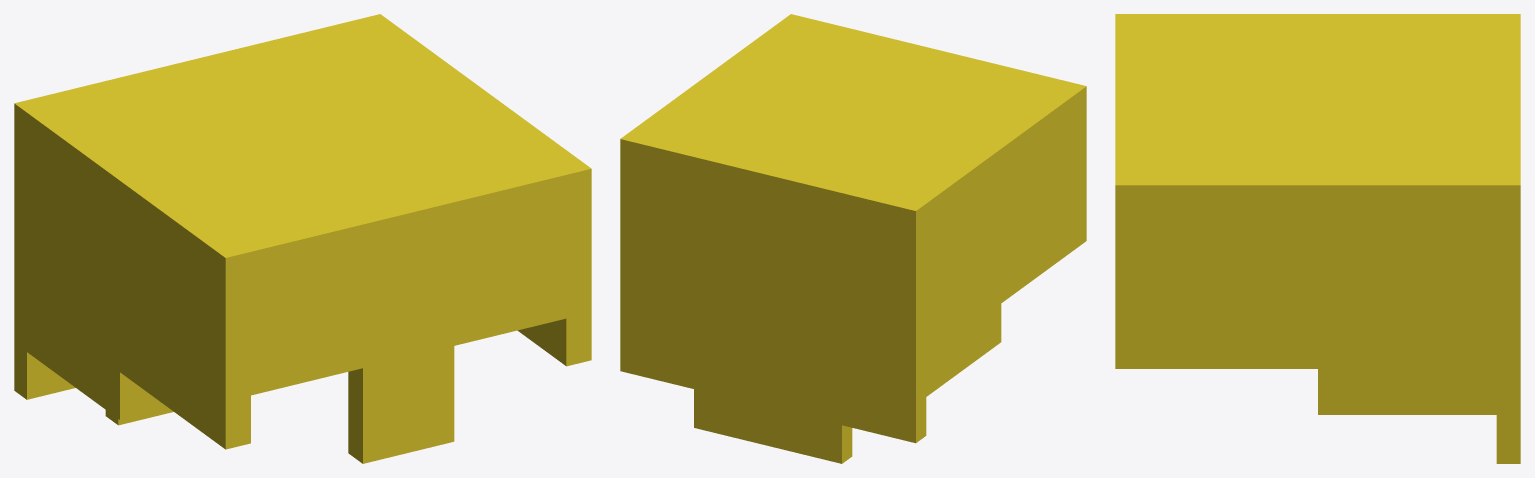
File: Helmet.fbx
3 renders of one model, left to right at view 1: azimuth 30°, elevation 25°; view 2: azimuth 150°, elevation 25°; view 3: azimuth 270°, elevation 25°, orthographic. The views are drawn at different scales.
Parts seen in each view (by area): view 1: Helmet:Gold; view 2: Helmet:Gold; view 3: Helmet:Gold.
Boxes of the visible parts, x1,y1,x2,y2 form: Helmet:Gold: [14, 14, 591, 463]; Helmet:Gold: [620, 14, 1086, 463]; Helmet:Gold: [1115, 14, 1520, 463].
Bounding box in the file's own units: 56.65 × 49.57 × 56.65.
